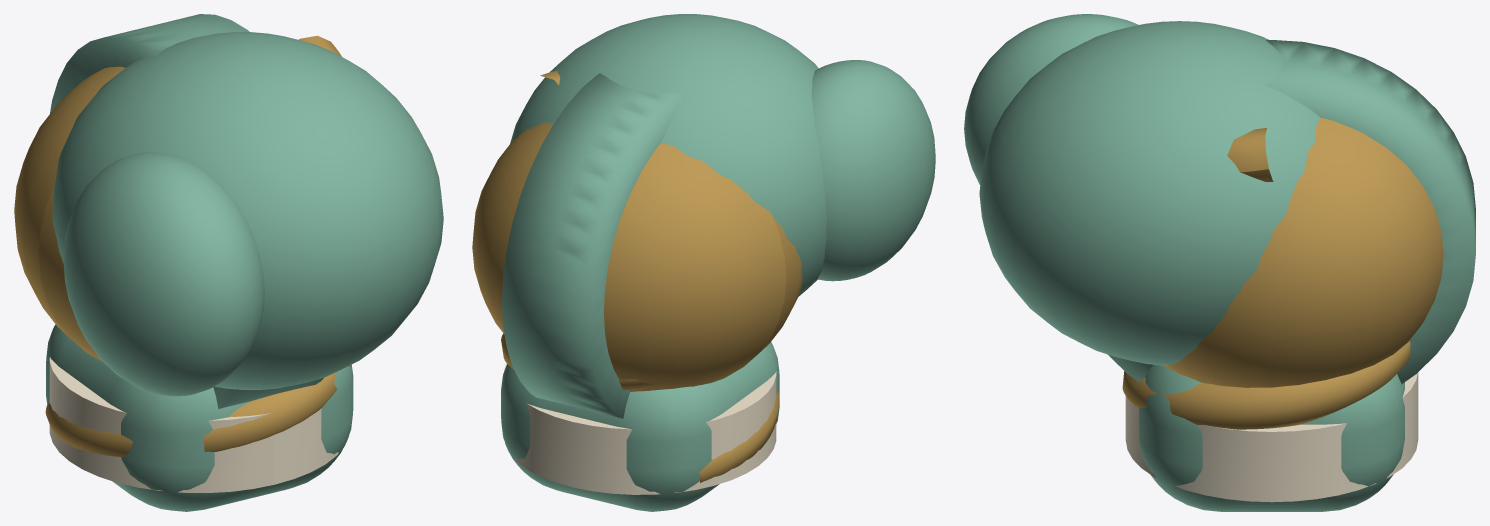
Rendered from hotshot-arm-1.glb.
3 renders of one model, left to right at view 1: azimuth 30°, elevation 25°; view 2: azimuth 150°, elevation 25°; view 3: azimuth 270°, elevation 25°, orthographic. The views are drawn at different scales.
Visible parts, largest first — view 1: hand_clay, upper_clay, lower_hardware (×2), upper_hardware; view 2: hand_clay, upper_clay, upper_hardware, lower_hardware (×2); view 3: hand_clay, upper_hardware, upper_clay, lower_hardware (×2).
Part boxes in pixels (x1=…): hand_clay: x1=52, y1=32, x2=443, y2=396; upper_clay: x1=46, y1=14, x2=353, y2=511; lower_hardware (×2): x1=45, y1=35, x2=351, y2=492; upper_hardware: x1=14, y1=66, x2=125, y2=361; hand_clay: x1=510, y1=14, x2=935, y2=296; upper_clay: x1=501, y1=73, x2=779, y2=511; upper_hardware: x1=472, y1=122, x2=802, y2=391; lower_hardware (×2): x1=501, y1=70, x2=779, y2=494; hand_clay: x1=964, y1=14, x2=1320, y2=365; upper_hardware: x1=1163, y1=117, x2=1443, y2=387; upper_clay: x1=1107, y1=40, x2=1475, y2=511; lower_hardware (×2): x1=1122, y1=128, x2=1418, y2=502.
Size of the model in its own units: 0.517 by 0.5973 by 0.6251.
